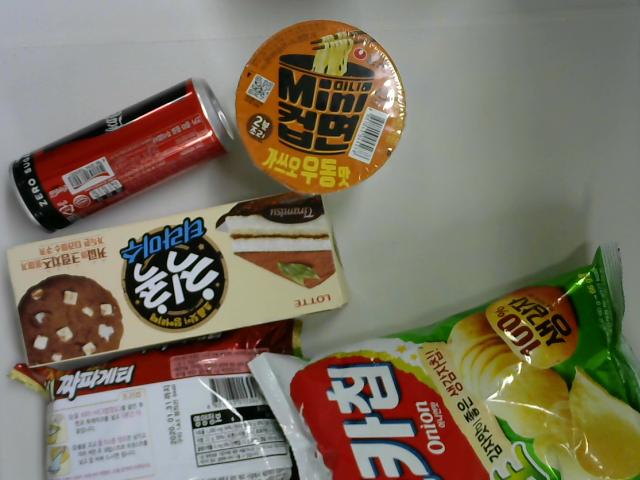Chicchok_Tiramisu: (9, 190, 353, 370)
Coca_Cola_Zero_Can_250ml: (10, 78, 236, 235)
Pocachip_Onion: (248, 242, 640, 480)
Sichuan_Chapaghetti: (7, 319, 307, 480)
Udongmini: (231, 20, 410, 196)
